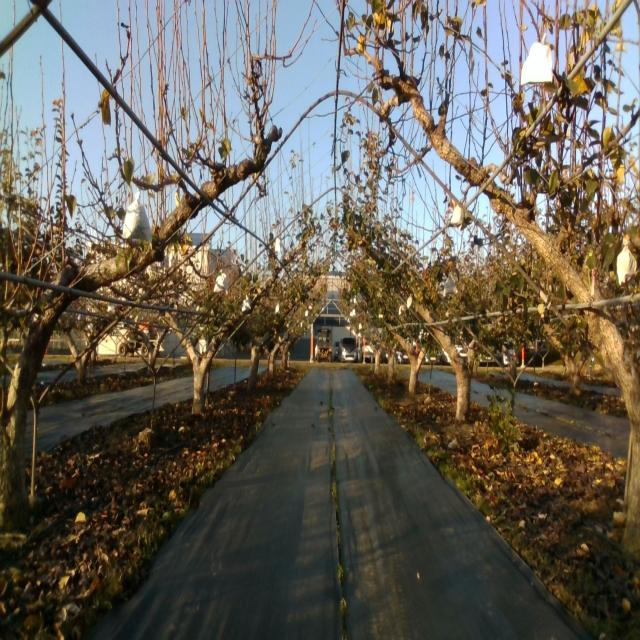pearbags: (520, 32, 552, 84), (122, 192, 152, 243), (616, 244, 638, 284), (451, 203, 464, 233), (443, 275, 458, 298), (214, 269, 226, 293)
